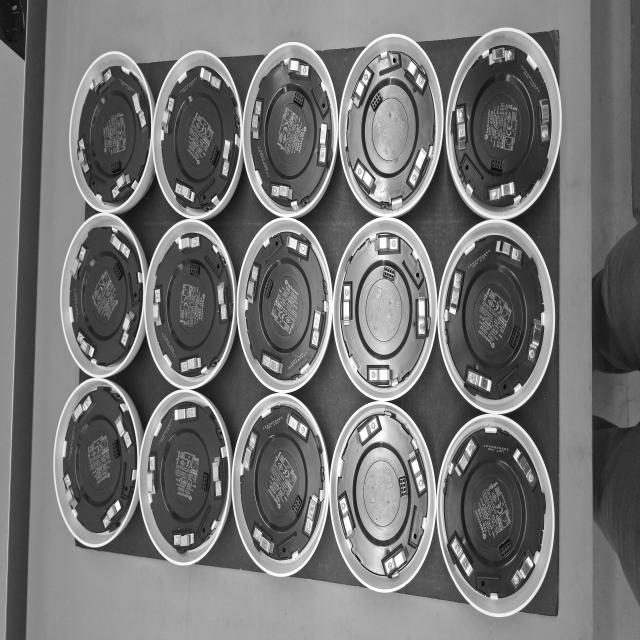yayli: (510, 551, 536, 591), (514, 446, 538, 489), (452, 437, 477, 478), (450, 533, 473, 577), (407, 146, 429, 191), (381, 543, 408, 579), (408, 449, 428, 497), (352, 64, 374, 107), (338, 491, 356, 541), (404, 56, 427, 95), (356, 414, 382, 448), (353, 160, 376, 197), (302, 493, 320, 538), (495, 238, 523, 266), (448, 271, 464, 318), (528, 319, 544, 366), (286, 410, 310, 440), (252, 525, 274, 556), (242, 431, 258, 472), (466, 368, 491, 394), (310, 304, 325, 347), (487, 182, 516, 204), (455, 104, 468, 153), (103, 499, 123, 529), (285, 234, 309, 259), (121, 307, 136, 347), (90, 68, 112, 95), (110, 172, 132, 199), (488, 46, 515, 68), (70, 245, 86, 282), (110, 232, 131, 260), (72, 394, 92, 423), (116, 413, 132, 449), (76, 331, 95, 361), (247, 263, 261, 303), (374, 233, 399, 255), (64, 473, 79, 509), (132, 91, 146, 129), (366, 366, 392, 386), (200, 67, 222, 90), (261, 352, 282, 376), (416, 294, 427, 338), (539, 100, 550, 144), (162, 97, 175, 134), (317, 122, 328, 165), (220, 140, 232, 179), (174, 181, 195, 203), (78, 140, 90, 176), (147, 454, 157, 496), (212, 454, 222, 496), (288, 58, 309, 78), (176, 234, 200, 251), (252, 100, 262, 140), (180, 356, 201, 375), (175, 405, 198, 422), (217, 282, 227, 321), (342, 285, 352, 324), (271, 184, 292, 201), (173, 532, 194, 548), (153, 302, 161, 324), (391, 196, 403, 210)
